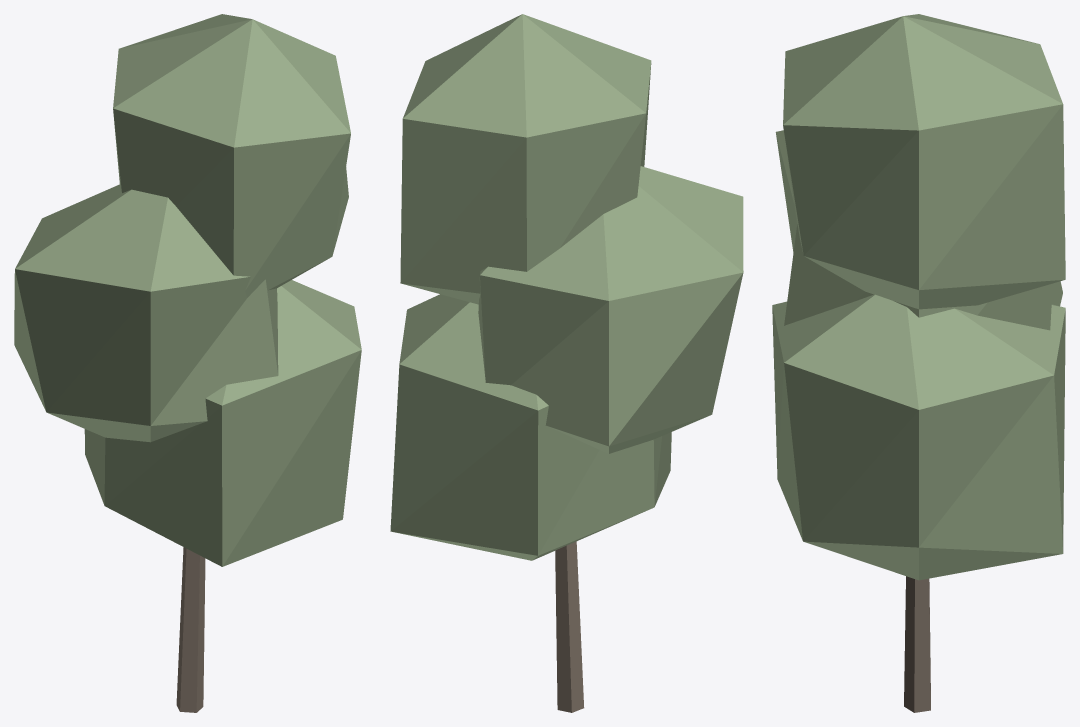
3 views of the same model, side by side, from view 1: azimuth 30°, elevation 25°; view 2: azimuth 150°, elevation 25°; view 3: azimuth 270°, elevation 25° (orthographic). The views are drawn at different scales.
Size of the model in its own units: 2.62 by 5.02 by 1.86.
